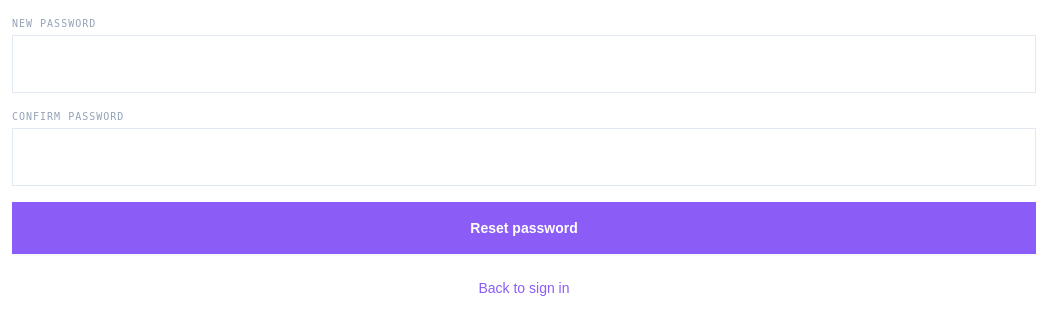
Test: ResetPasswordForm › submits the form and shows success state
This screenshot has width=1048, height=313.
Type "newpassword123" into the password field labelled "New password" at [524, 64], box [12, 35, 1036, 93]
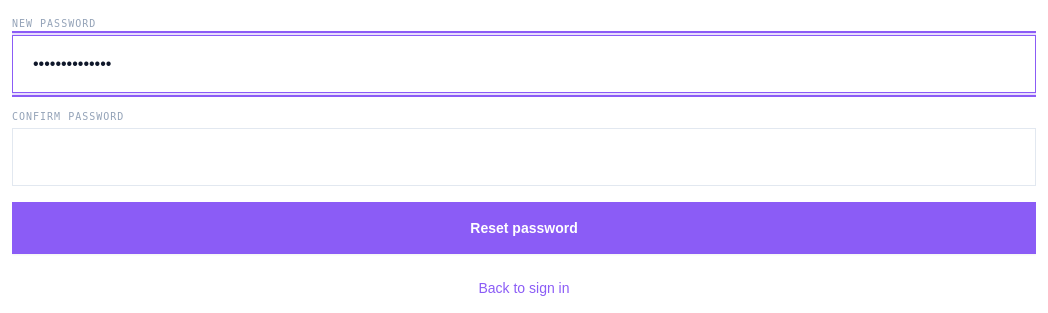
Type "newpassword123" into the password field labelled "Confirm password" at [524, 157], box [12, 128, 1036, 186]
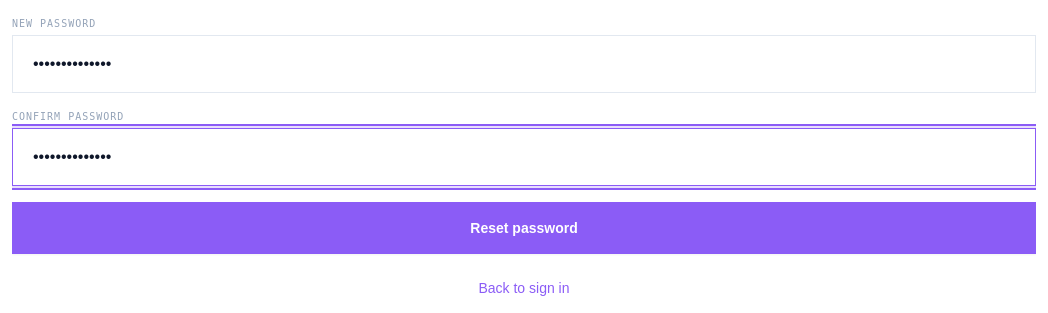
Click the button "Reset password" at [524, 228], box [12, 202, 1036, 254]
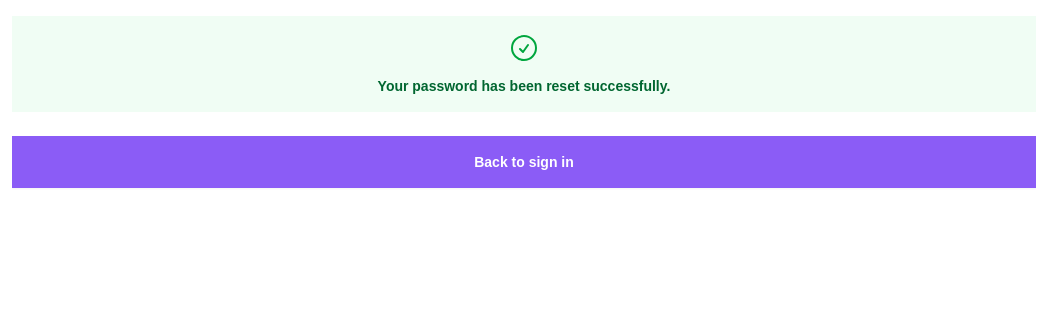
expect the text "Your password has been reset successfully." is shown: met, box [378, 78, 670, 94]
